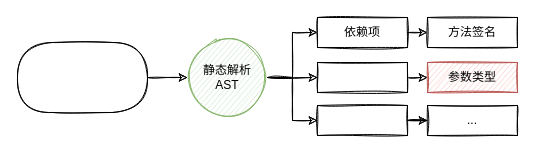
This 535x153 diagram has some shape labels left out. Each missing label, with the centre of its shape:
参数签名: (x=362, y=77)
源码 Source Code: (x=82, y=77)
返回值计算: (x=362, y=120)
